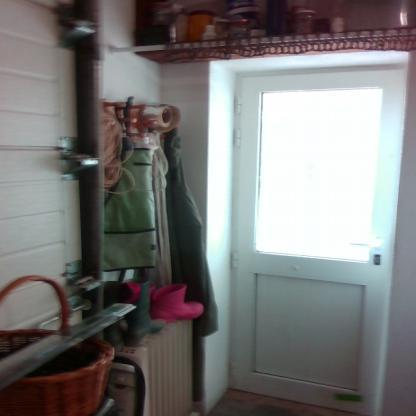door: (237, 78, 382, 401)
hinged: (230, 357, 240, 380), (230, 247, 240, 268), (235, 94, 244, 115), (233, 128, 243, 146)
lever: (342, 236, 384, 252)
